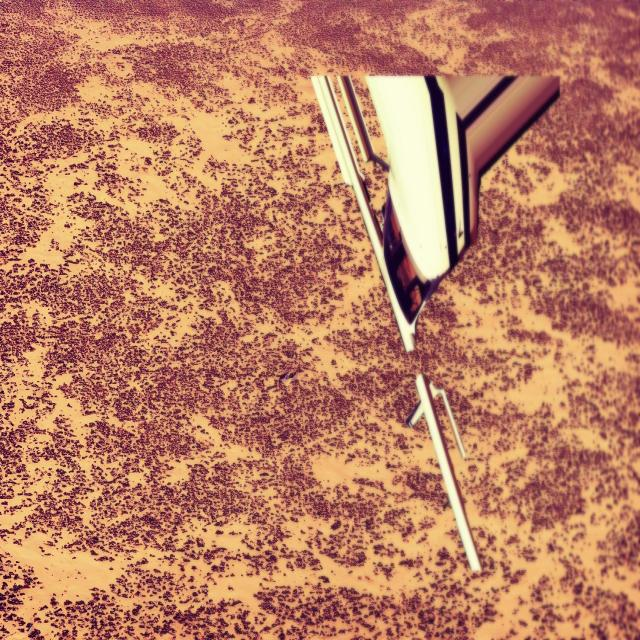airplane: (310, 70, 560, 572)
